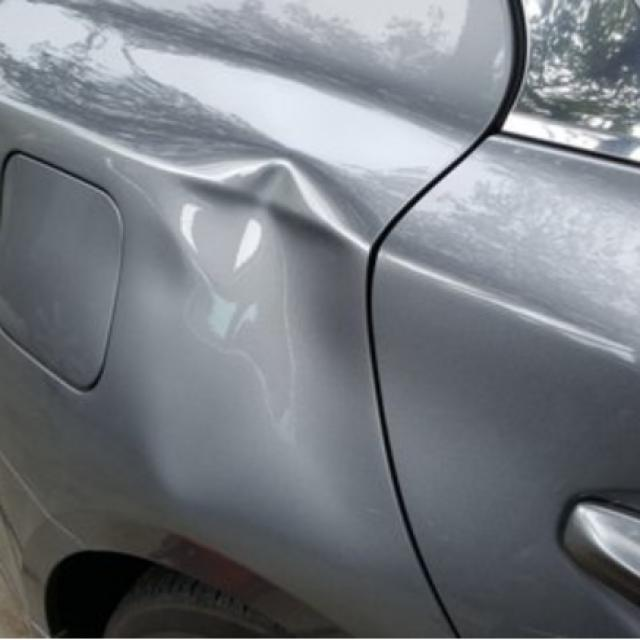dents: (164, 152, 354, 348)
